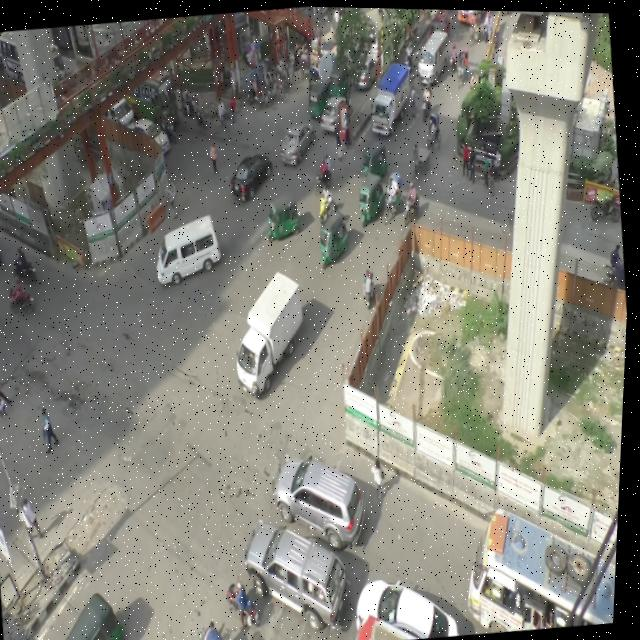cng: (63, 579, 139, 640), (314, 206, 355, 262), (265, 192, 307, 242), (355, 173, 394, 220), (355, 136, 392, 182), (304, 76, 334, 120), (326, 59, 351, 96)
rikshaw: (380, 169, 412, 223), (453, 44, 475, 91), (250, 74, 279, 106), (423, 108, 444, 152), (263, 68, 289, 103), (275, 59, 299, 88)
